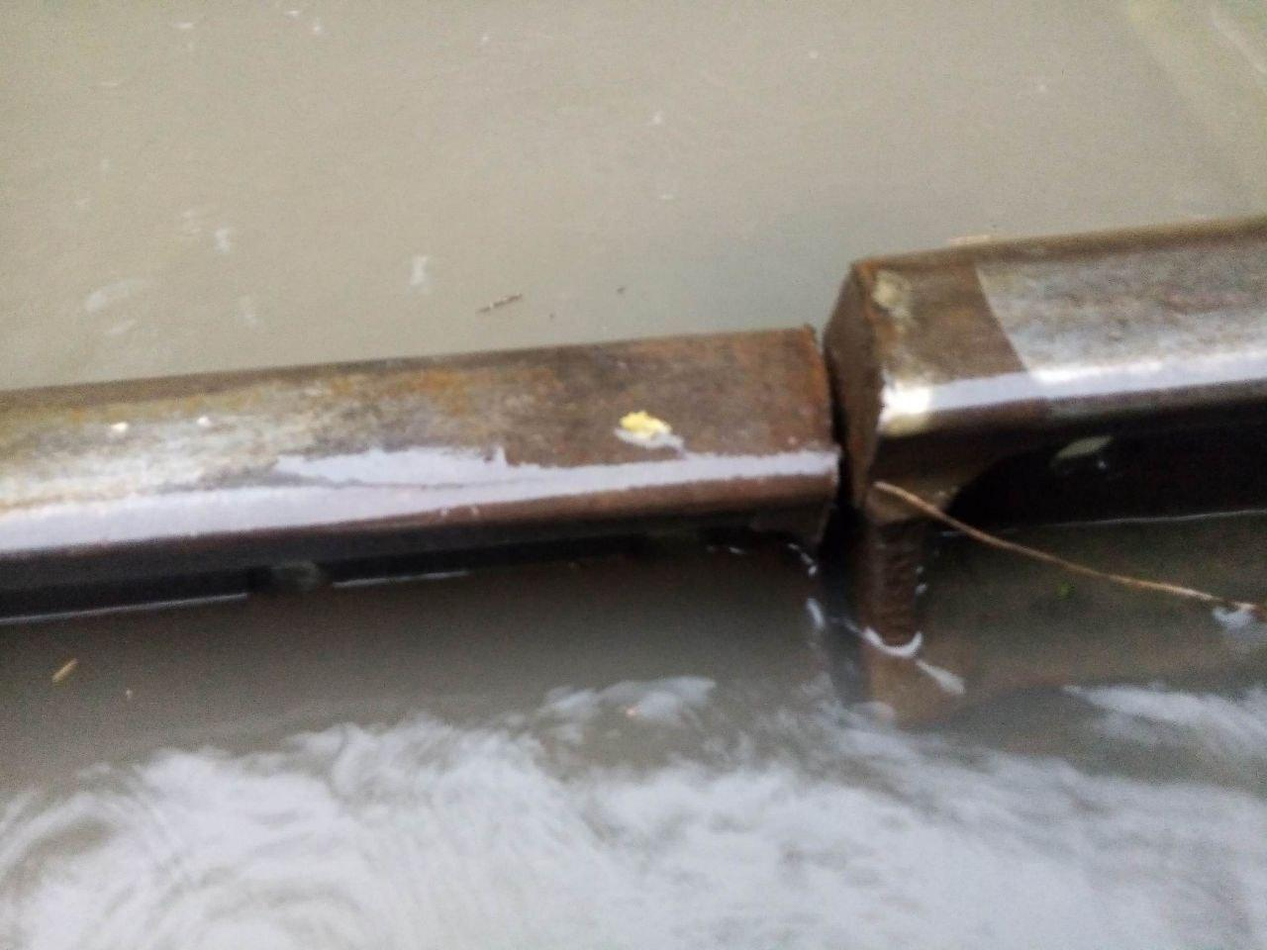railway-gap: (628, 192, 1089, 588)
